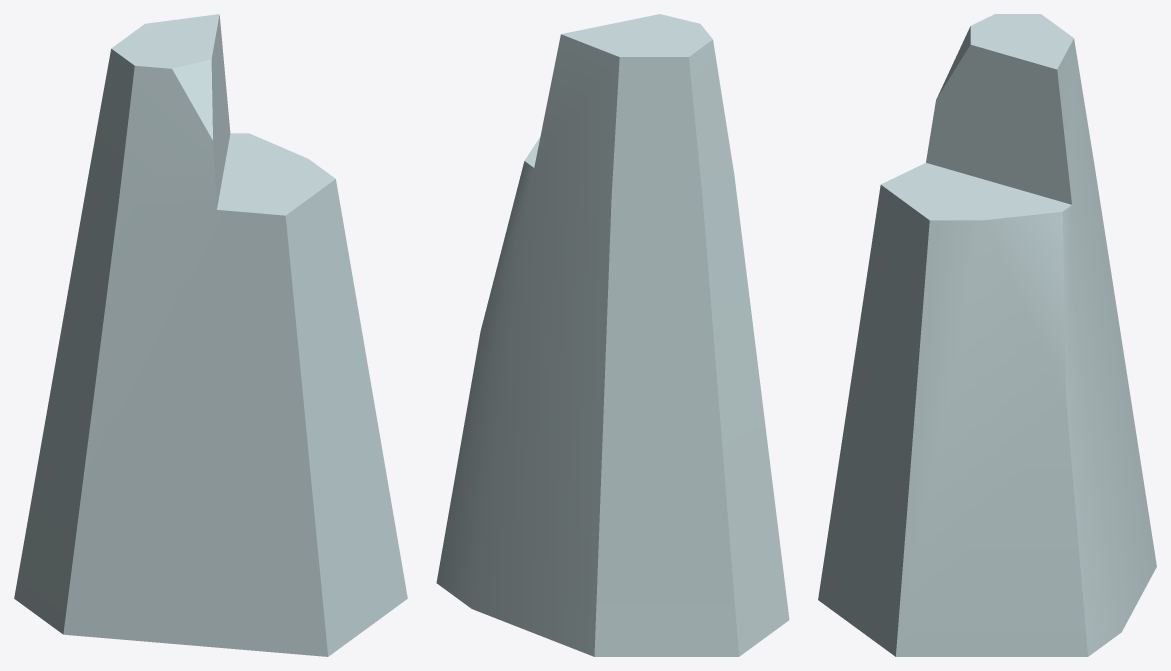
File: stone_tall9.glb
The picture shows the model from 3 angles, left to right: view 1: azimuth 30°, elevation 25°; view 2: azimuth 150°, elevation 25°; view 3: azimuth 270°, elevation 25°; orthographic projection. The views are drawn at different scales.
Visible parts, largest first — view 1: stone_tall9; view 2: stone_tall9; view 3: stone_tall9.
Part boxes in pixels (x1,y1,x2,y2): stone_tall9: (14, 14, 407, 656); stone_tall9: (436, 14, 789, 656); stone_tall9: (818, 14, 1156, 656).
Bounding box in the file's own units: 0.4562 × 0.8118 × 0.4644.
